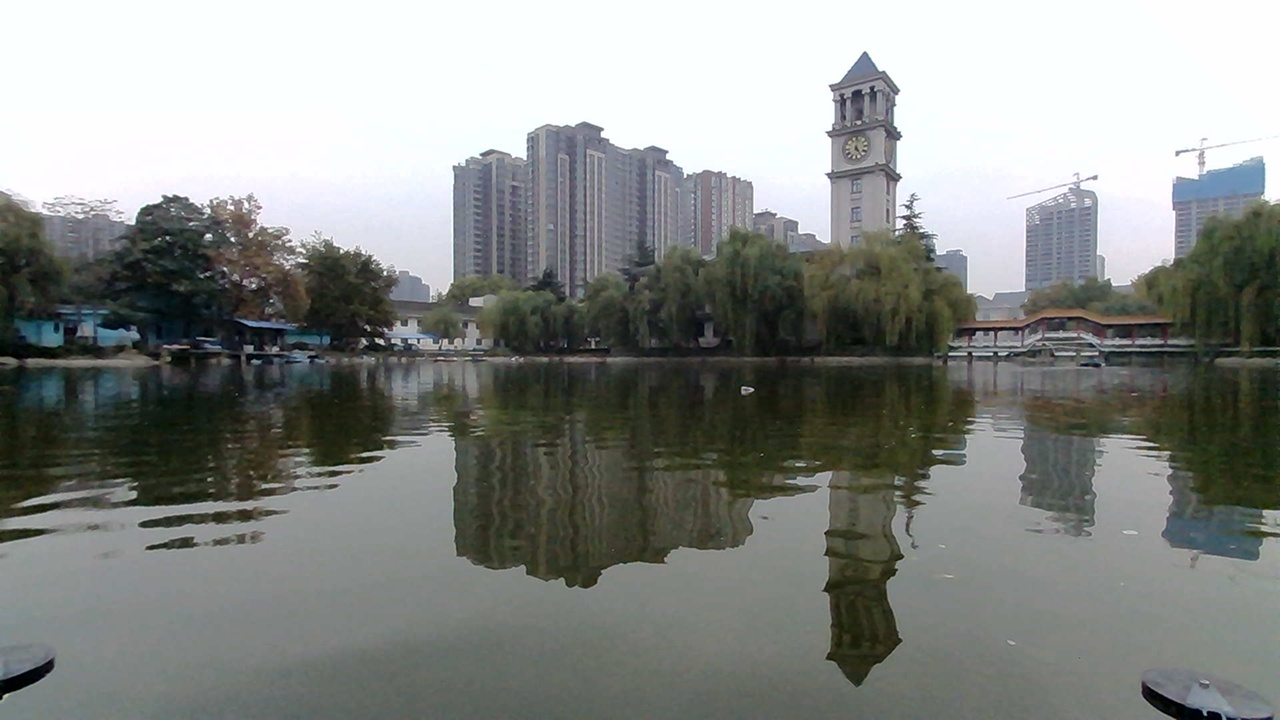bottle: (724, 375, 763, 405)
